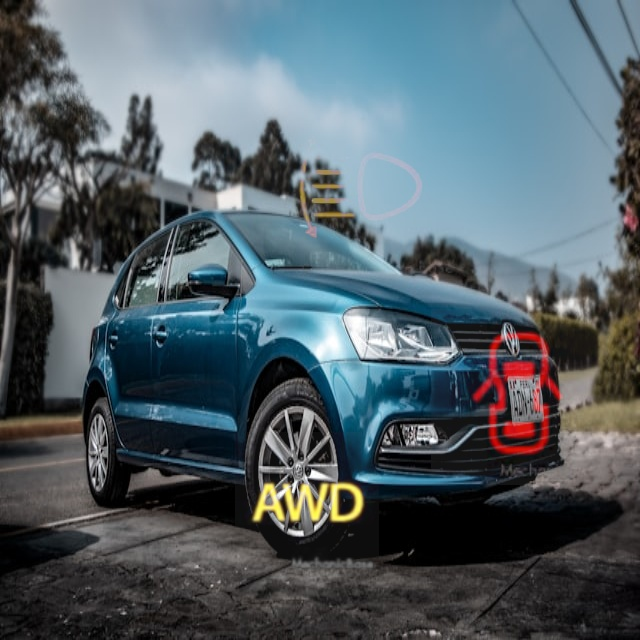symbol: (268, 90, 457, 279), (431, 309, 607, 485), (235, 432, 379, 576)
